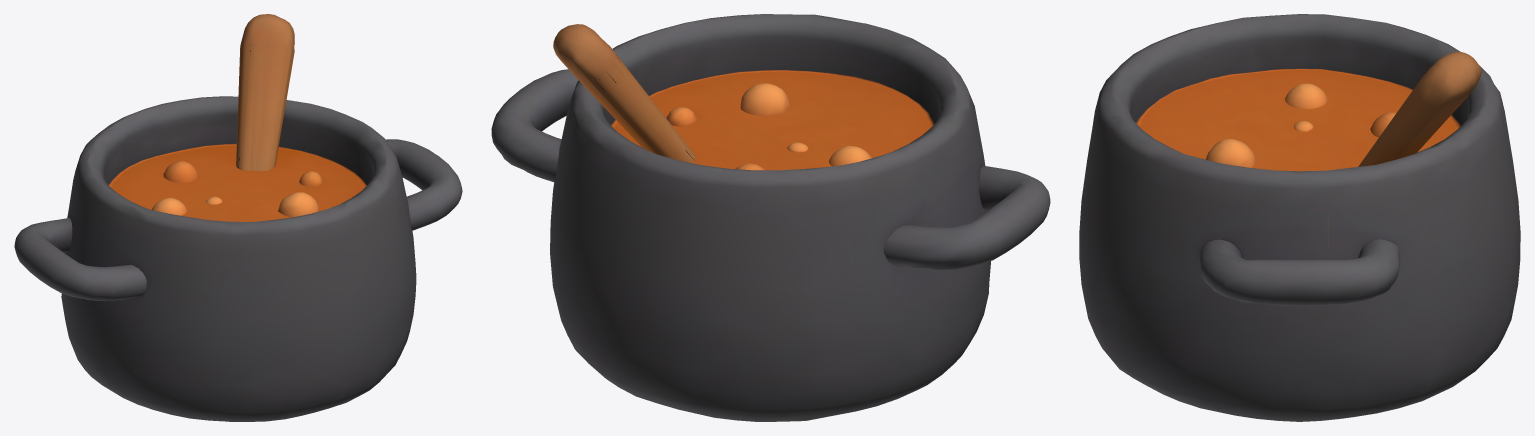
File: prop_pot.glb
3 views of the same model, side by side, from view 1: azimuth 30°, elevation 25°; view 2: azimuth 150°, elevation 25°; view 3: azimuth 270°, elevation 25° (orthographic). The views are drawn at different scales.
Parts seen in each view (by area): view 1: geometry_0; view 2: geometry_0; view 3: geometry_0.
Boxes of the visible parts, box(x1,y1,x2,y2) form: geometry_0: box(14, 14, 462, 421); geometry_0: box(491, 14, 1050, 421); geometry_0: box(1079, 14, 1520, 421).
Size of the model in its own units: 0.9492 by 0.6377 by 0.709.
1 material, 1 textured.
